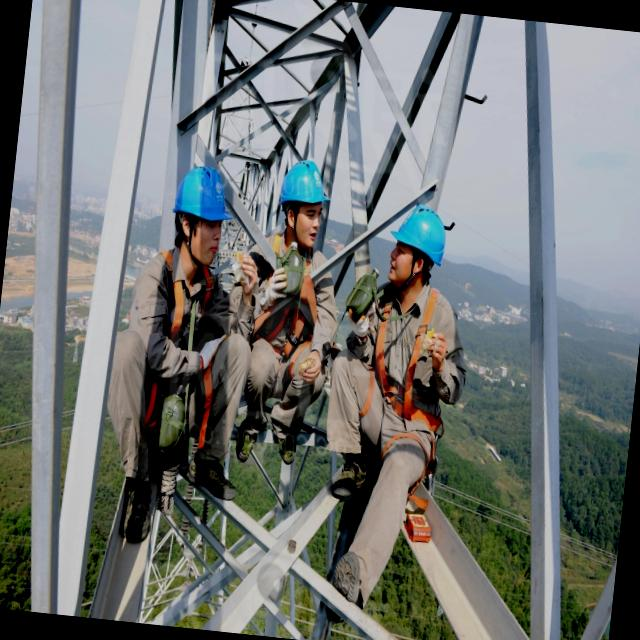helmet: (173, 158, 233, 220), (394, 208, 450, 260), (284, 156, 334, 214)
no-goggles: (286, 199, 326, 224), (386, 242, 418, 263), (187, 215, 226, 228)
no-vest: (355, 290, 444, 436), (121, 264, 214, 382)
